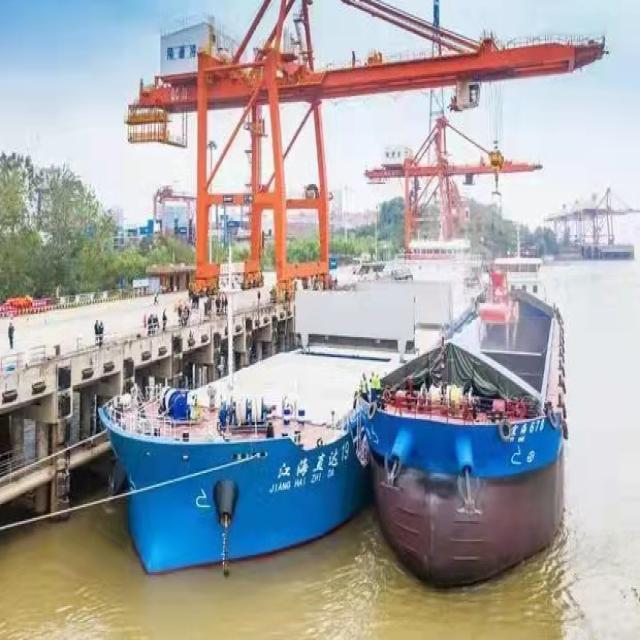cargoship: (100, 300, 399, 573), (376, 255, 578, 598)
